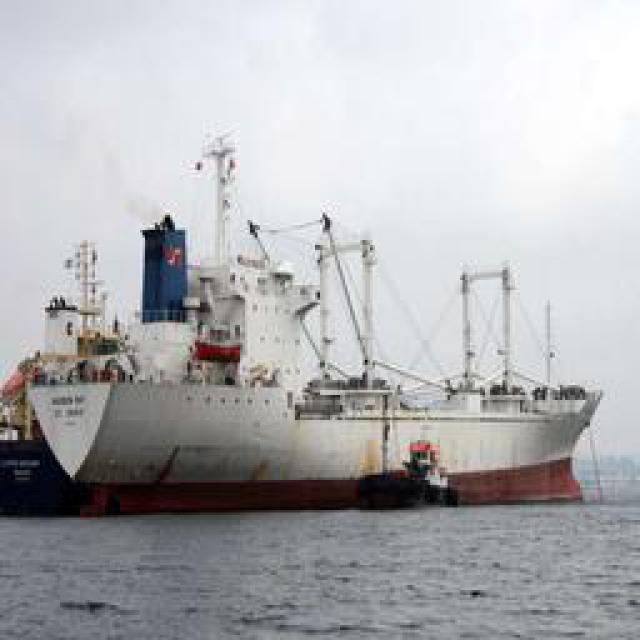Ship: (6, 151, 599, 504)
